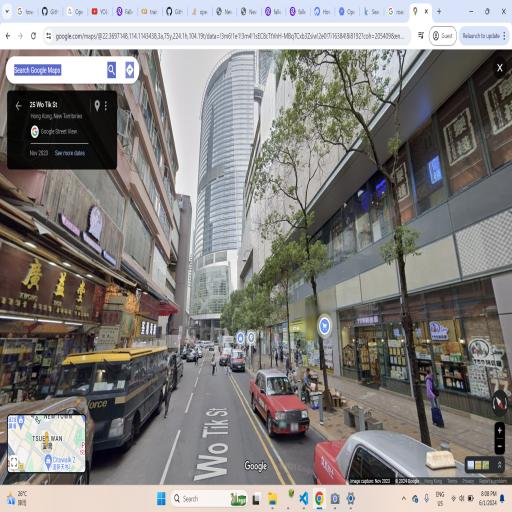Roads: (92, 337, 381, 481)
Trees: (261, 187, 355, 403)
